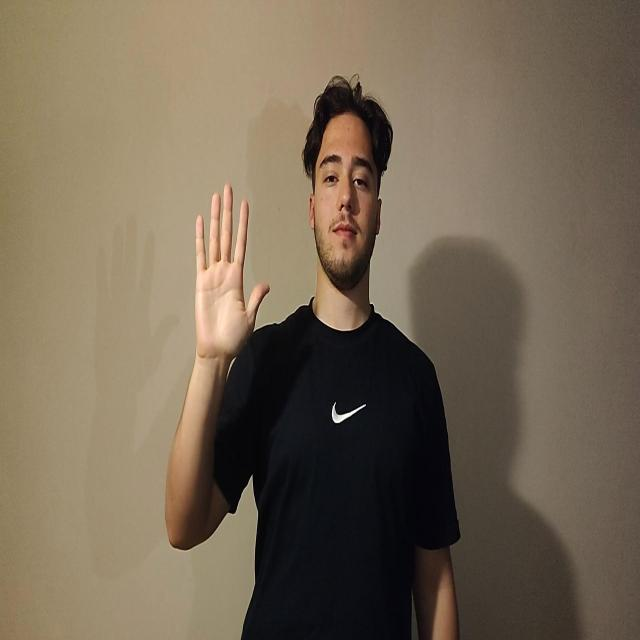hello: (193, 182, 270, 361)
